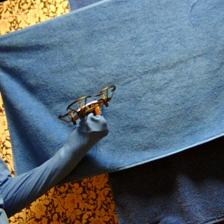drone: (58, 86, 118, 123)
